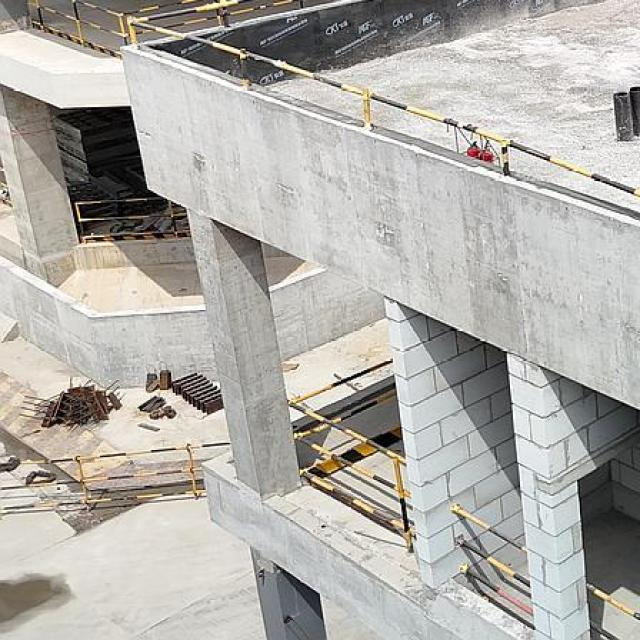edge_guardrail: (127, 1, 640, 198), (285, 356, 418, 554), (27, 0, 304, 56), (452, 503, 534, 618), (69, 197, 191, 244), (584, 583, 640, 640)
